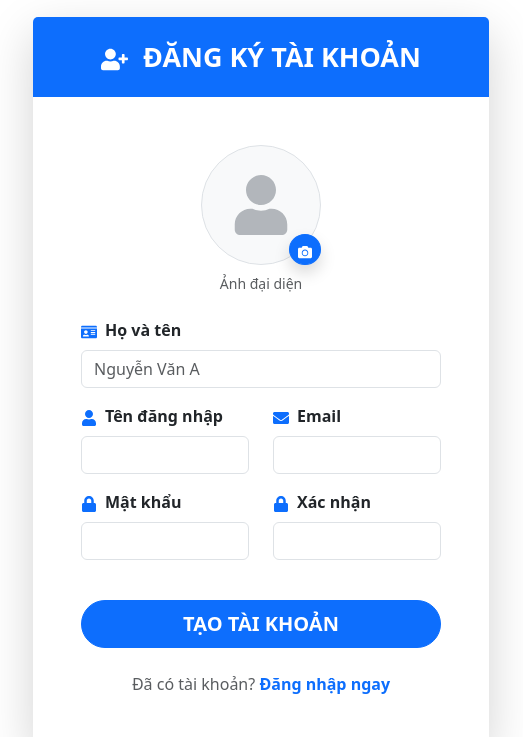
Test: Register › validates password confirmation before submitting
Type "Nguyen Van A" into the field named "fullName" at (261, 369), box x1=81 y1=350 x2=441 y2=388
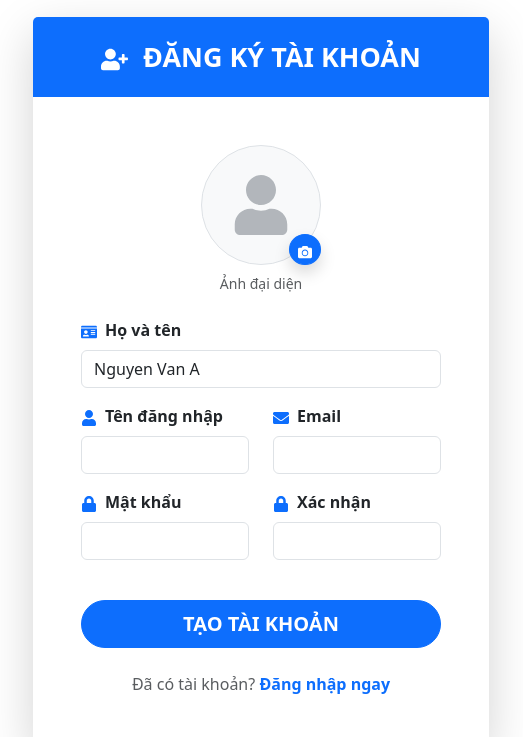
Type "patient02" into the field named "username" below "Tên đăng nhập" at (165, 455), box x1=81 y1=436 x2=249 y2=474
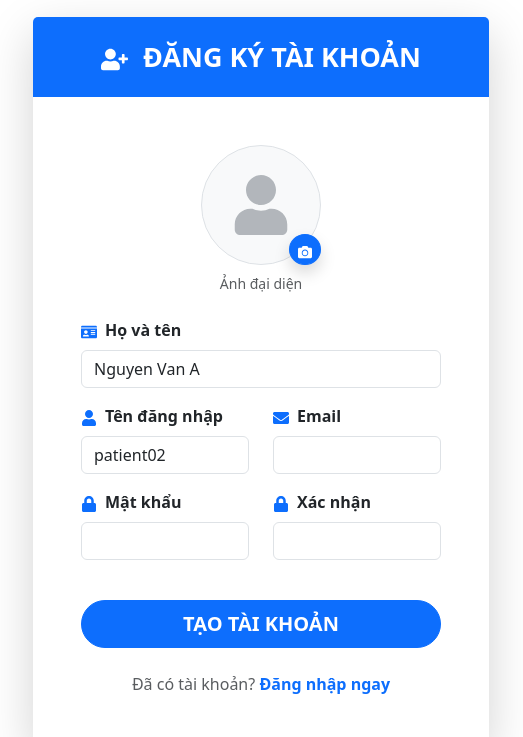
Type "patient02@example.com" into the field named "email" below "Email" at (357, 455), box x1=273 y1=436 x2=441 y2=474
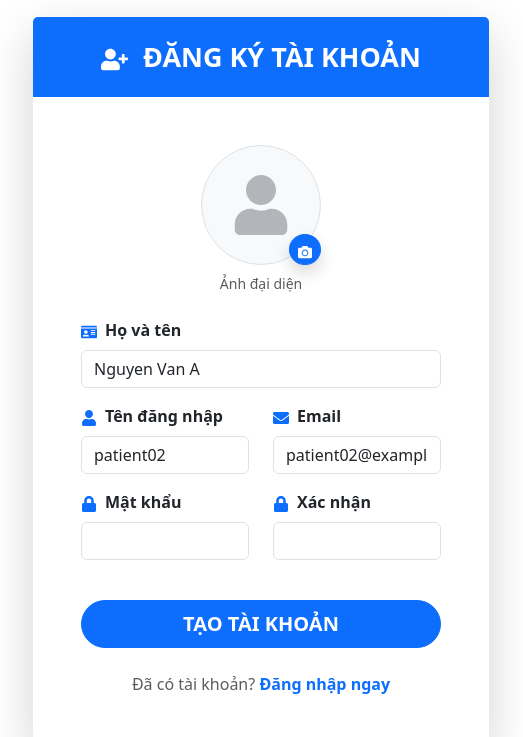
Type "secret123" into the password field named "password" below "Mật khẩu" at (165, 541), box x1=81 y1=522 x2=249 y2=560
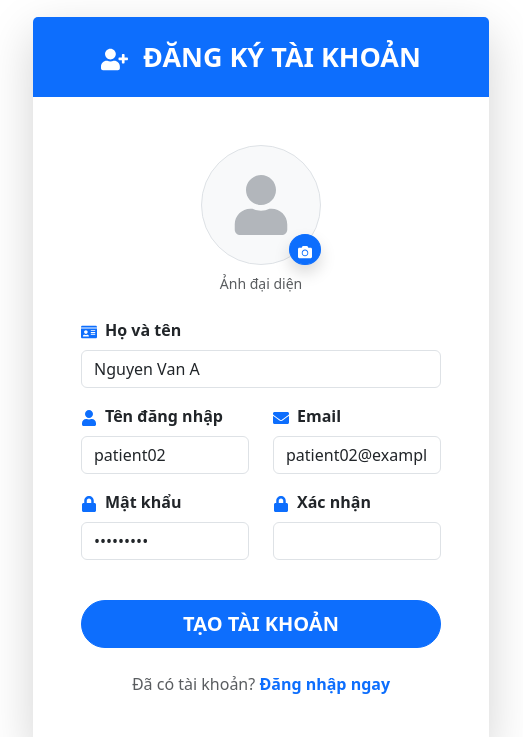
Type "different" into the password field named "confirmPassword" below "Xác nhận" at (357, 541), box x1=273 y1=522 x2=441 y2=560
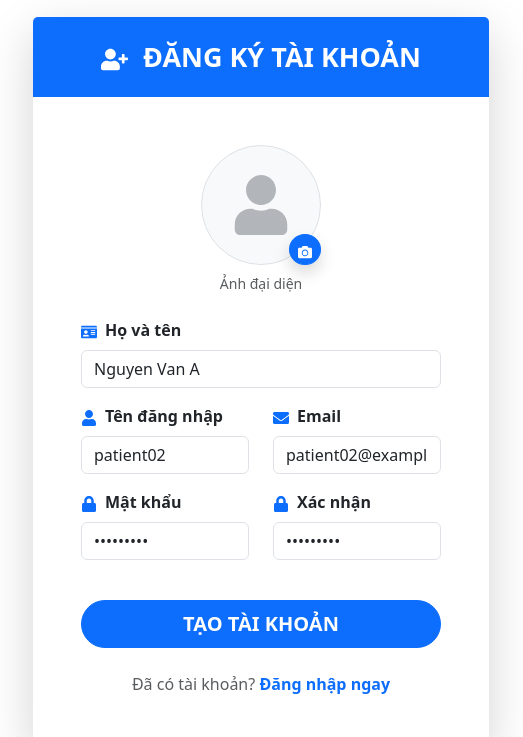
Click the button "TẠO TÀI KHOẢN" at (261, 624), box x1=81 y1=600 x2=441 y2=648
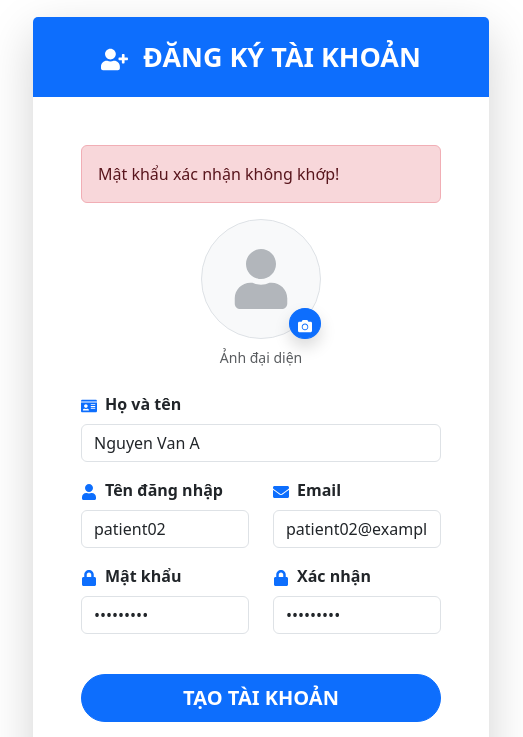
Result: the text "Mật khẩu xác nhận không khớp!" is shown at x1=81 y1=145 x2=441 y2=203
